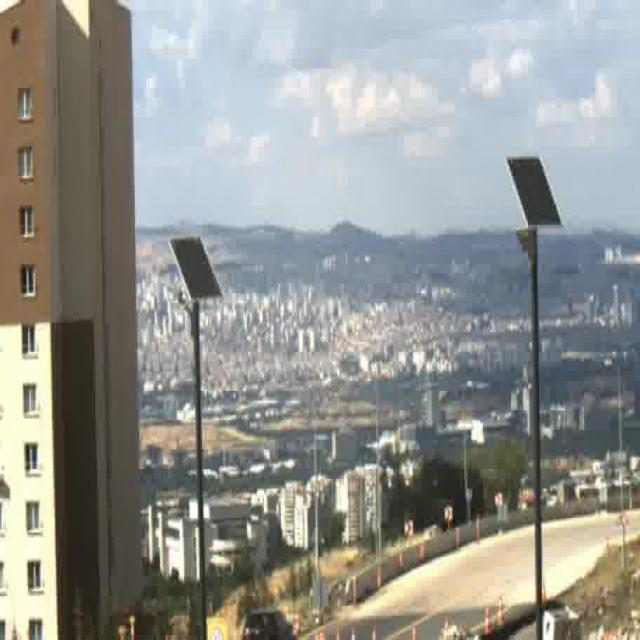Car: (240, 608, 293, 640)
